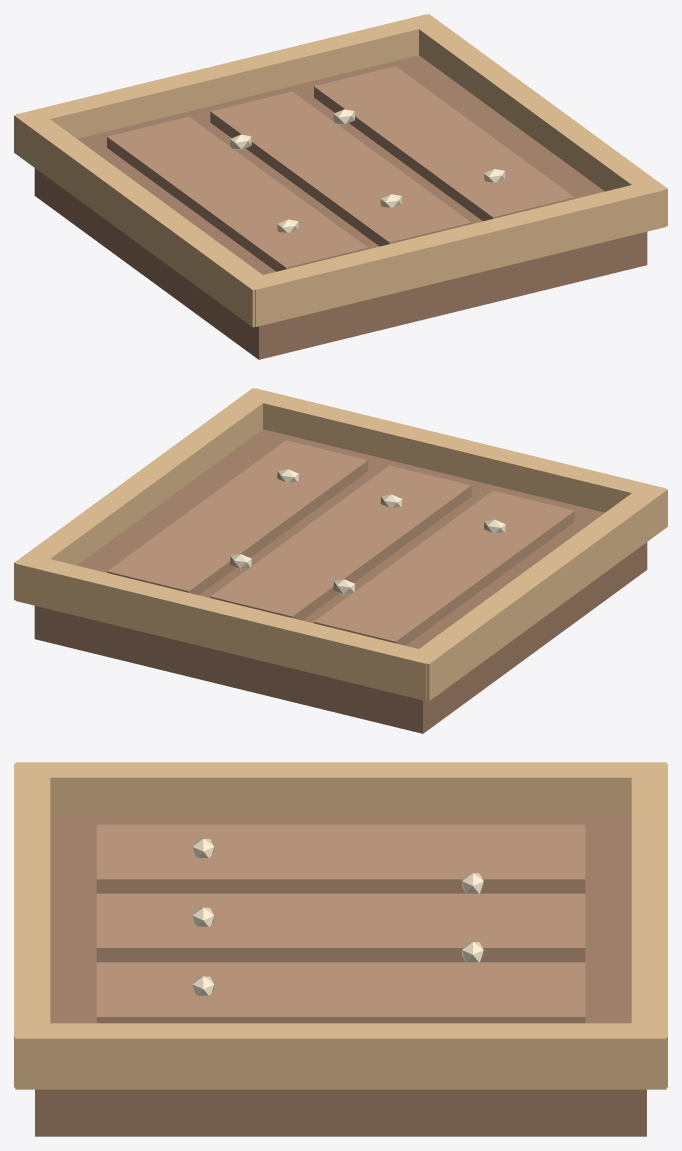
Rendered from plot_seeded.glb.
The picture shows the model from 3 angles, top to bottom: view 1: azimuth 30°, elevation 25°; view 2: azimuth 150°, elevation 25°; view 3: azimuth 270°, elevation 25°; orthographic projection. The views are drawn at different scales.
Visible parts, largest first — view 1: square soil bed.003, short timber edge.006, raised planting row.009, raised planting row.010, raised planting row.011, short timber edge.007, long timber edge.006, long timber edge.007; view 2: square soil bed.003, short timber edge.007, raised planting row.009, raised planting row.010, raised planting row.011, short timber edge.006, long timber edge.006, long timber edge.007; view 3: square soil bed.003, long timber edge.007, raised planting row.010, raised planting row.009, long timber edge.006, raised planting row.011, short timber edge.007, short timber edge.006.
Part boxes in pixels (left/top/right/bottom): square soil bed.003: left=34, top=55, right=647, bottom=359; short timber edge.006: left=243, top=180, right=665, bottom=326; raised planting row.009: left=107, top=117, right=367, bottom=271; raised planting row.010: left=210, top=91, right=471, bottom=246; raised planting row.011: left=314, top=66, right=574, bottom=221; short timber edge.007: left=16, top=14, right=437, bottom=138; long timber edge.006: left=14, top=110, right=270, bottom=327; long timber edge.007: left=407, top=14, right=667, bottom=226; square soil bed.003: left=34, top=429, right=647, bottom=733; short timber edge.007: left=16, top=554, right=438, bottom=700; raised planting row.009: left=314, top=491, right=574, bottom=645; raised planting row.010: left=210, top=465, right=471, bottom=620; raised planting row.011: left=107, top=440, right=367, bottom=595; short timber edge.006: left=243, top=388, right=665, bottom=512; long timber edge.006: left=411, top=484, right=667, bottom=701; long timber edge.007: left=14, top=388, right=274, bottom=600; square soil bed.003: left=35, top=813, right=646, bottom=1136; long timber edge.007: left=15, top=1023, right=666, bottom=1089; raised planting row.010: left=96, top=893, right=585, bottom=962; raised planting row.009: left=96, top=824, right=585, bottom=893; long timber edge.006: left=15, top=762, right=666, bottom=813; raised planting row.011: left=96, top=962, right=585, bottom=1023; short timber edge.007: left=631, top=764, right=667, bottom=1087; short timber edge.006: left=14, top=764, right=50, bottom=1087.
Size of the model in its own units: 2.33 by 0.42 by 2.33.
